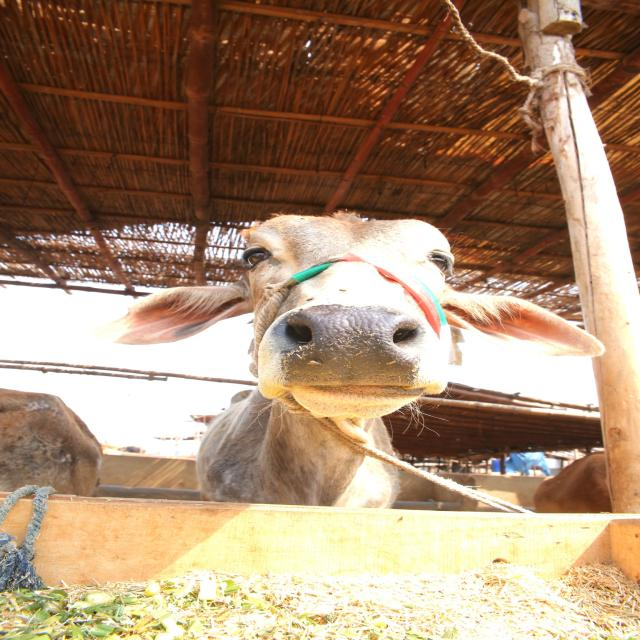muzzles: (278, 304, 432, 394)
